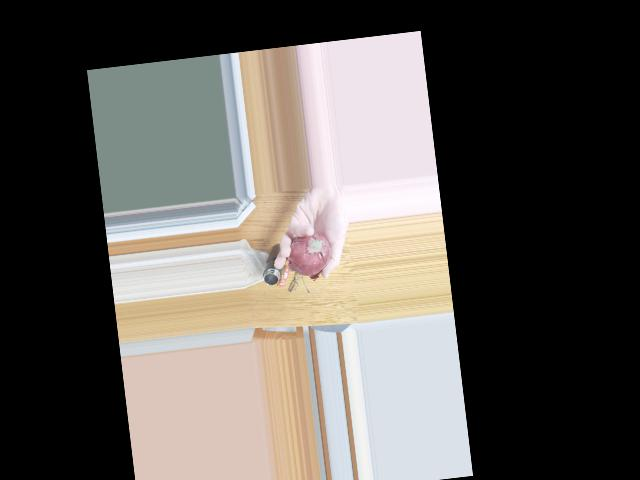onion: (285, 229, 333, 273)
